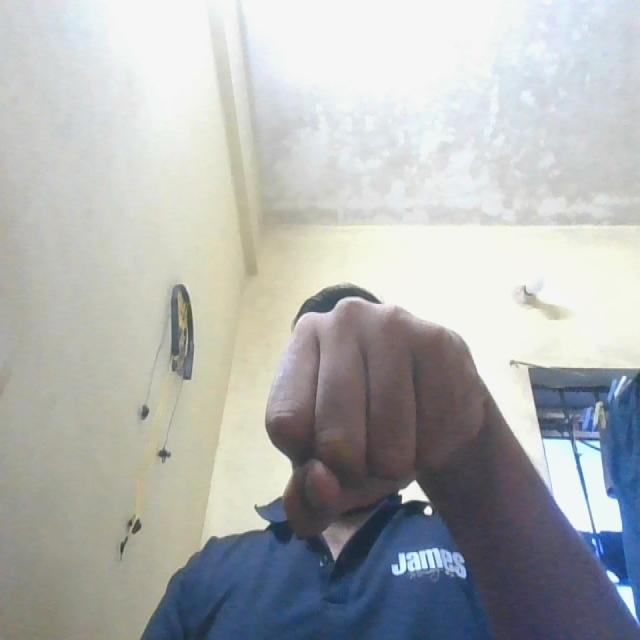Yes: (266, 284, 497, 519)
